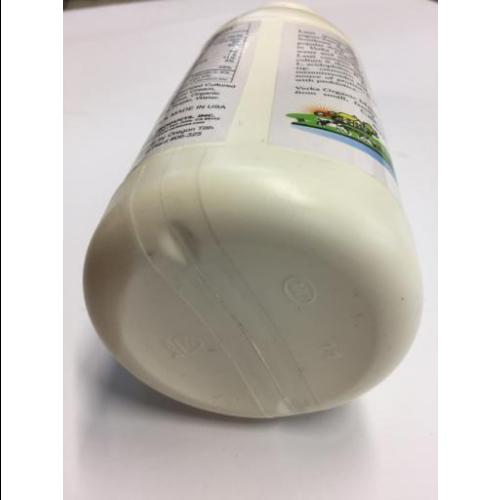plastic: (83, 2, 427, 426)
